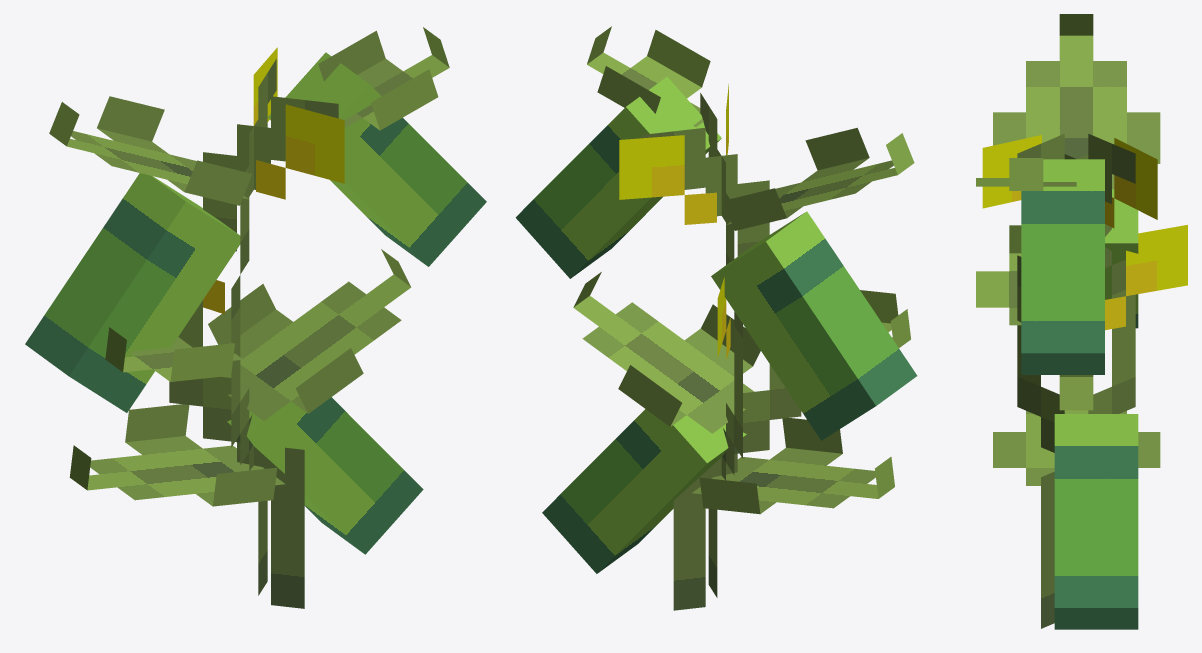
The model's file is cucumber-stage4.gltf.
The picture shows the model from 3 angles, left to right: view 1: azimuth 30°, elevation 25°; view 2: azimuth 150°, elevation 25°; view 3: azimuth 270°, elevation 25°; orthographic projection. The views are drawn at different scales.
Parts seen in each view (by area): view 1: cube; view 2: cube; view 3: cube.
Boxes of the visible parts, box(x1,y1,x2,y2) form: cube: box(25, 27, 486, 608); cube: box(515, 26, 917, 610); cube: box(976, 14, 1187, 629).
Size of the model in its own units: 0.8237 by 1.09 by 0.3954.
1 material, 1 textured.
